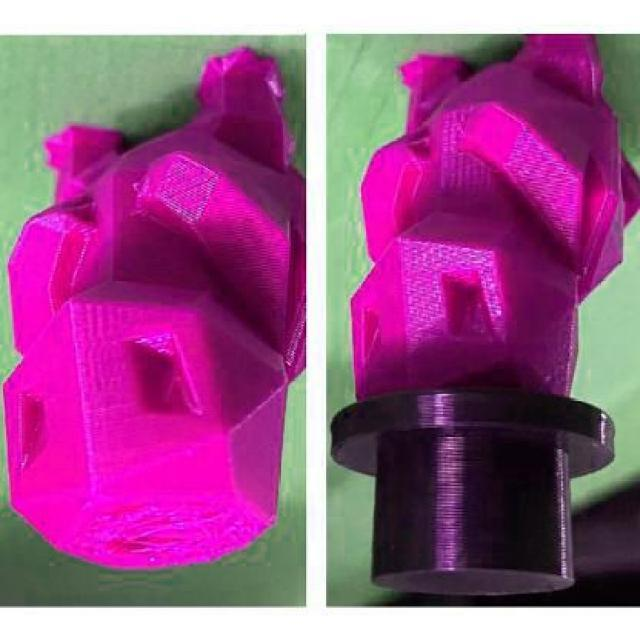spaghetti: (75, 500, 260, 566)
